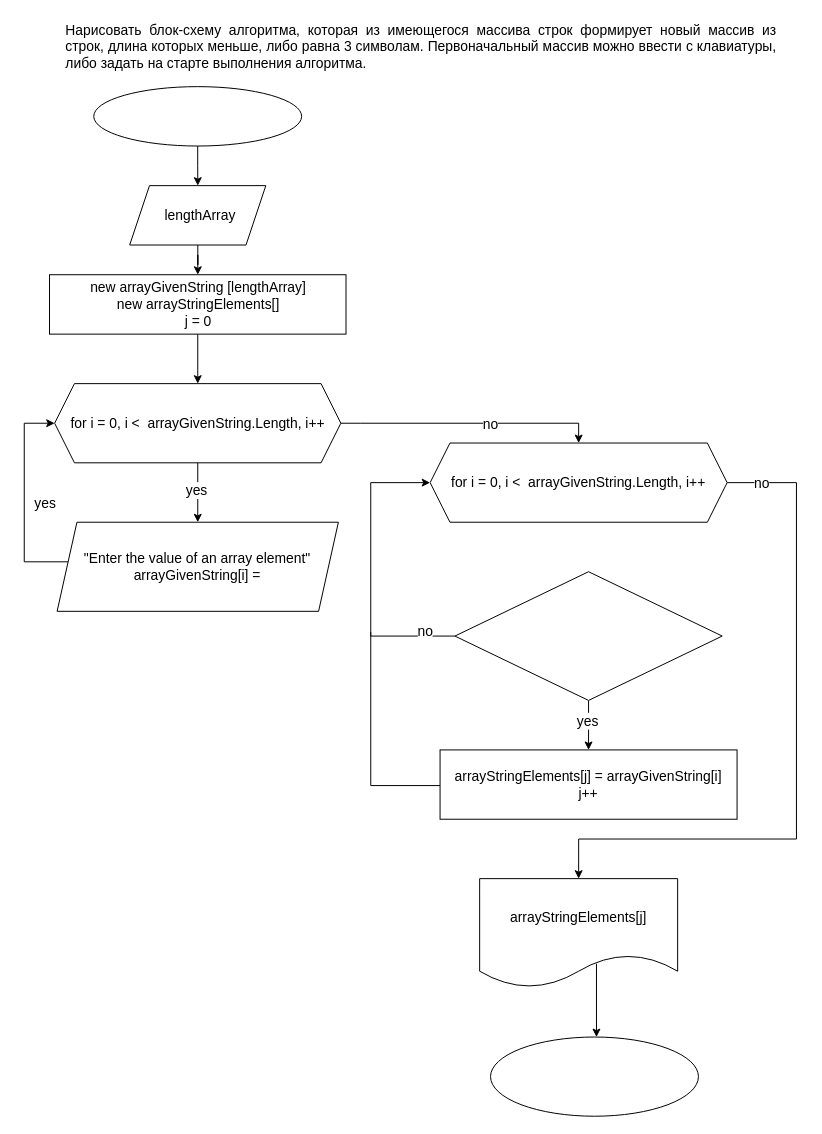
This 822x1134 diagram has some shape labels left out. Here are the shapes that lost their labels. From the top down, the centre of each, then its label:
At (x=197, y=116): "Start".
At (x=588, y=635): "arrayGivenString[i].Length <= 3".
At (x=594, y=1076): "End".
